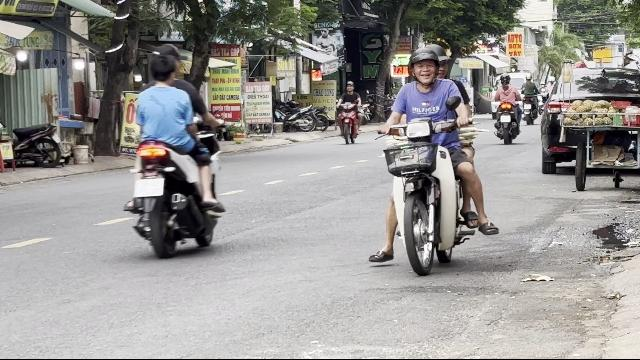helmet: (407, 47, 441, 85)
licenseplate: (134, 178, 162, 196)
motorcyclist: (374, 41, 494, 271), (125, 45, 225, 257), (334, 80, 364, 142)
nohelmet: (147, 54, 181, 90)
